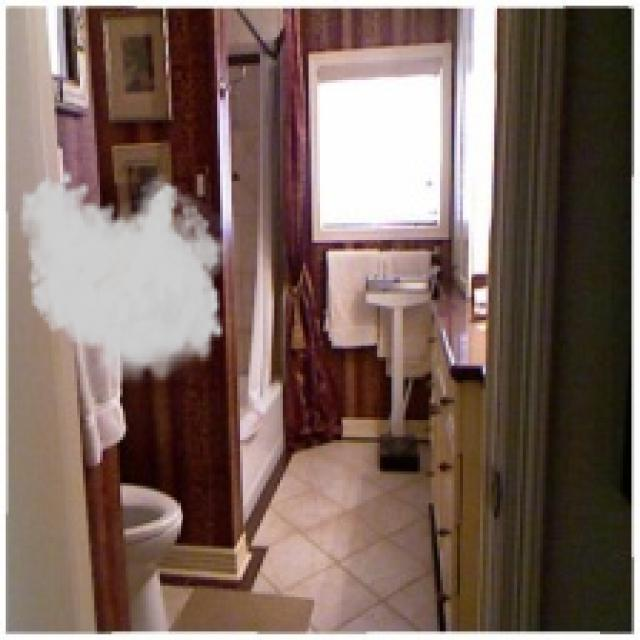smoke: (17, 168, 237, 392)
